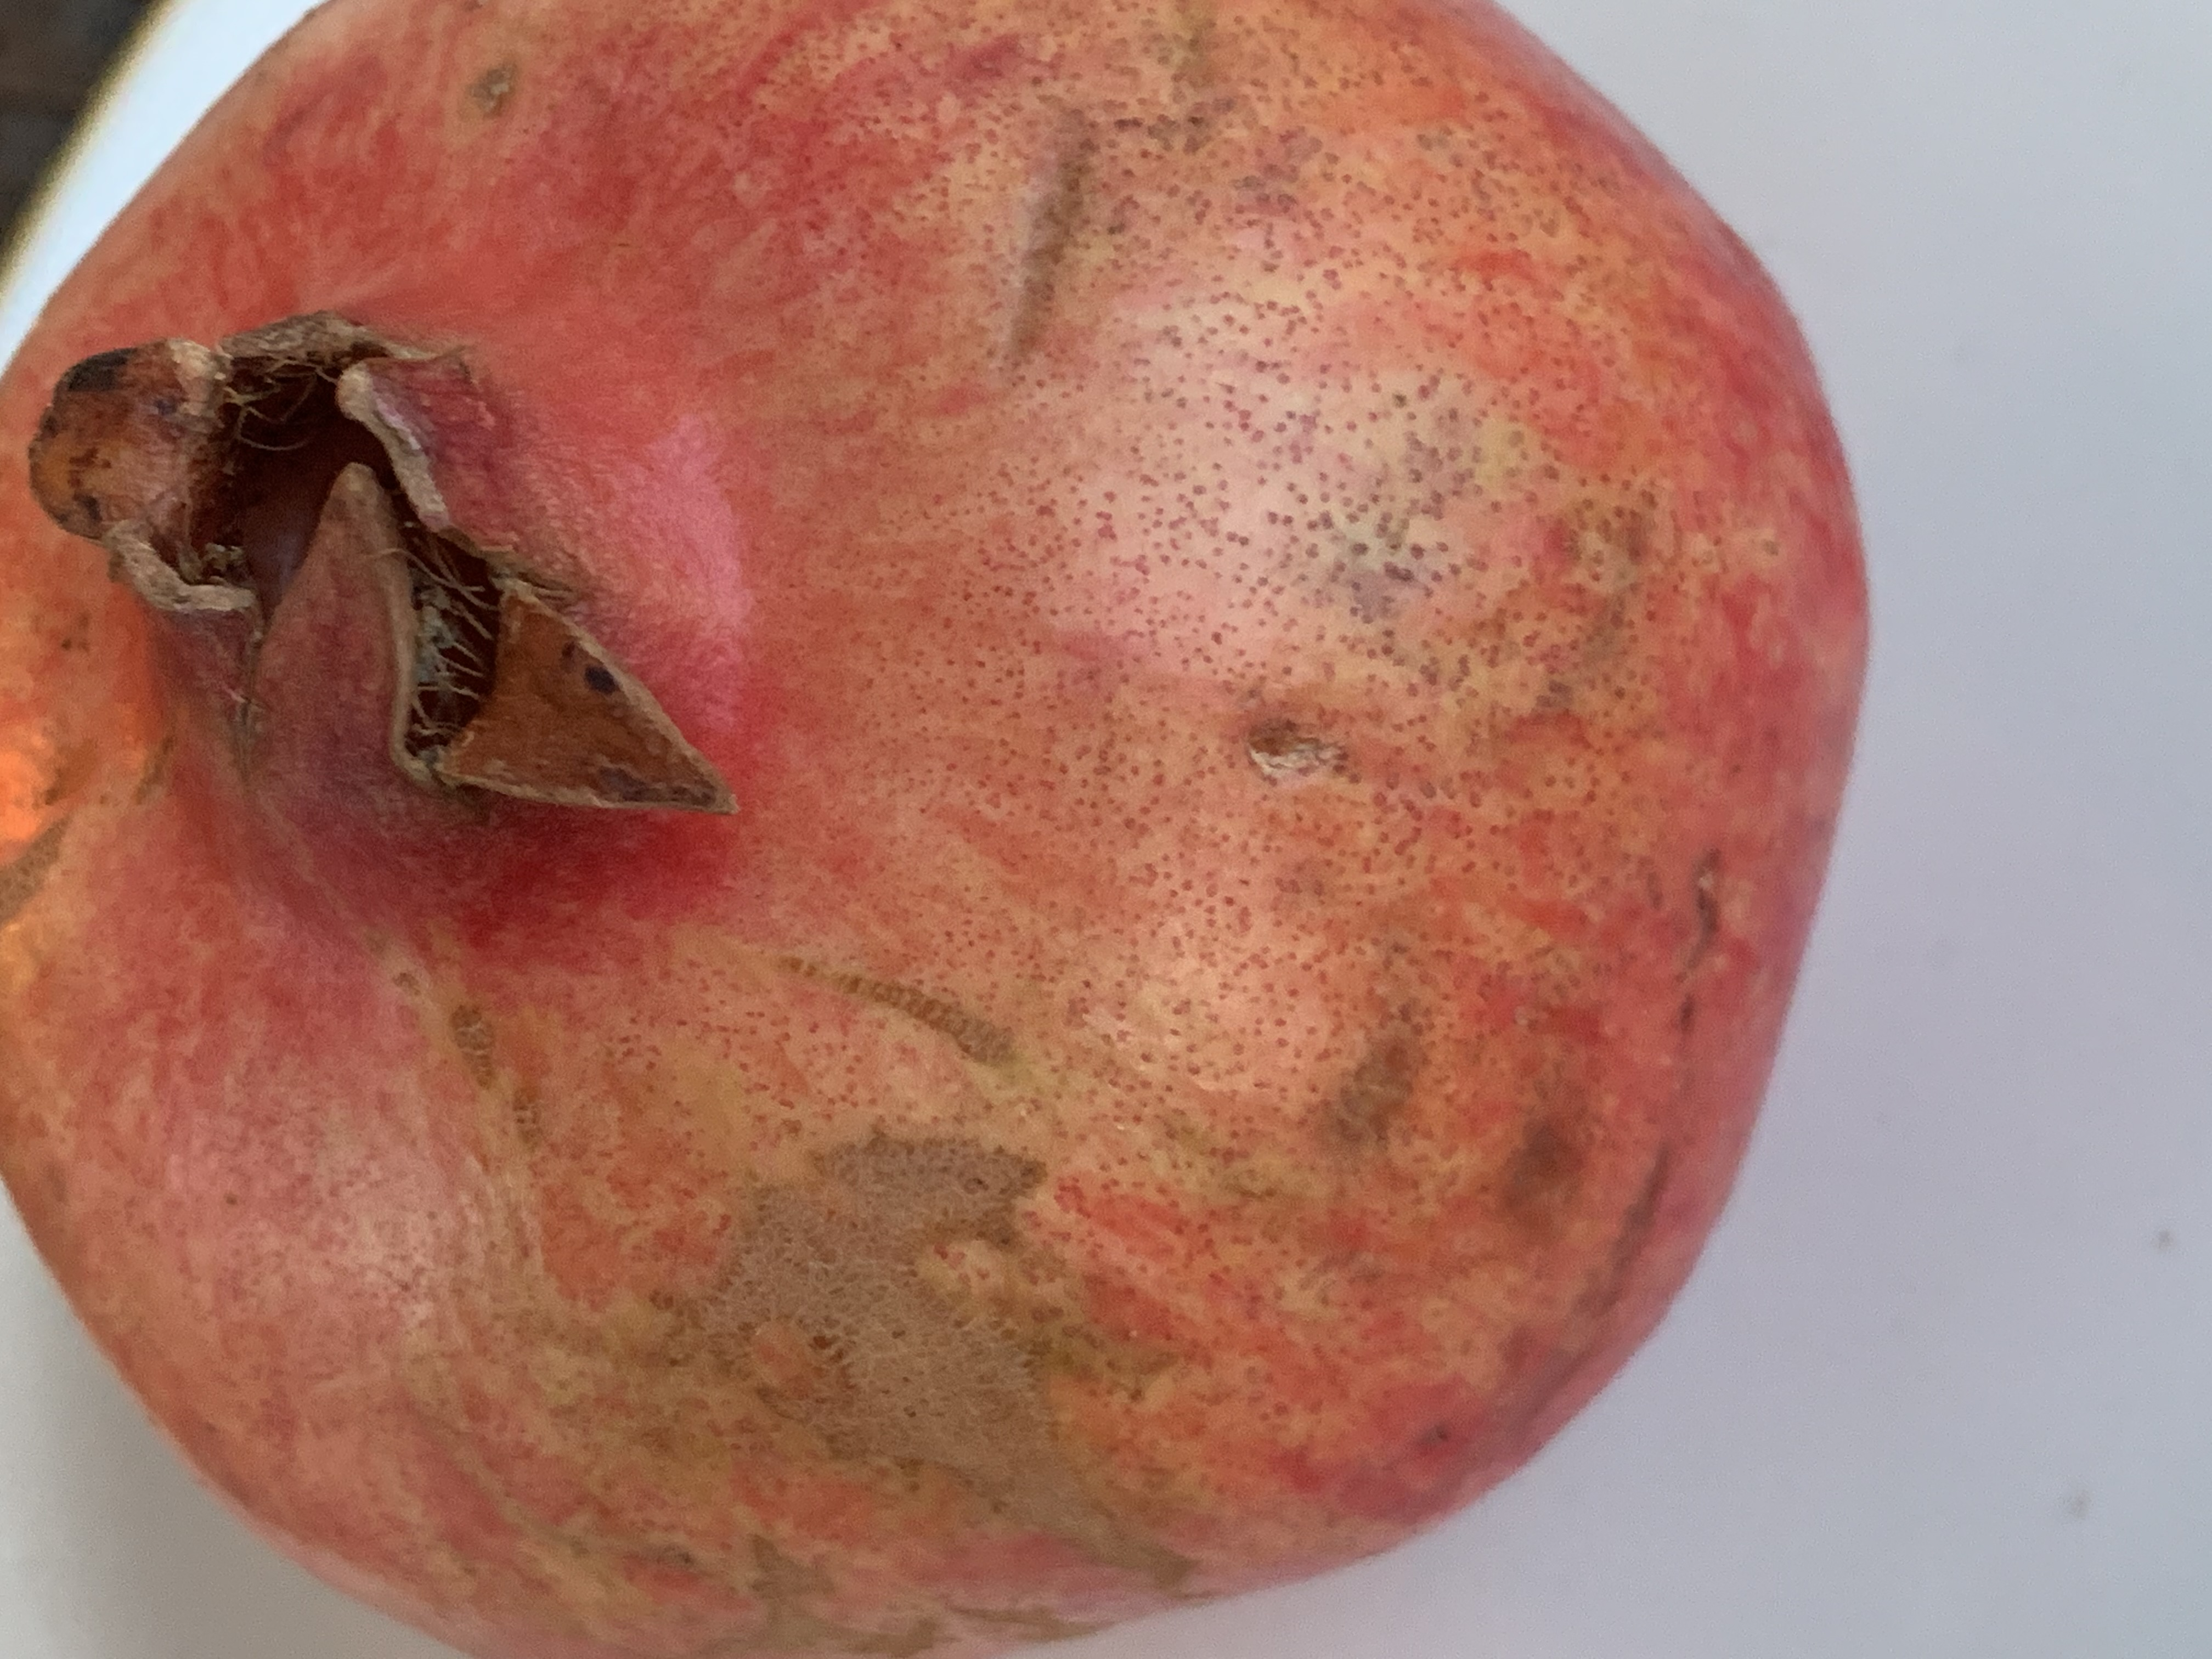Pomegranate: (7, 9, 1871, 1659)
